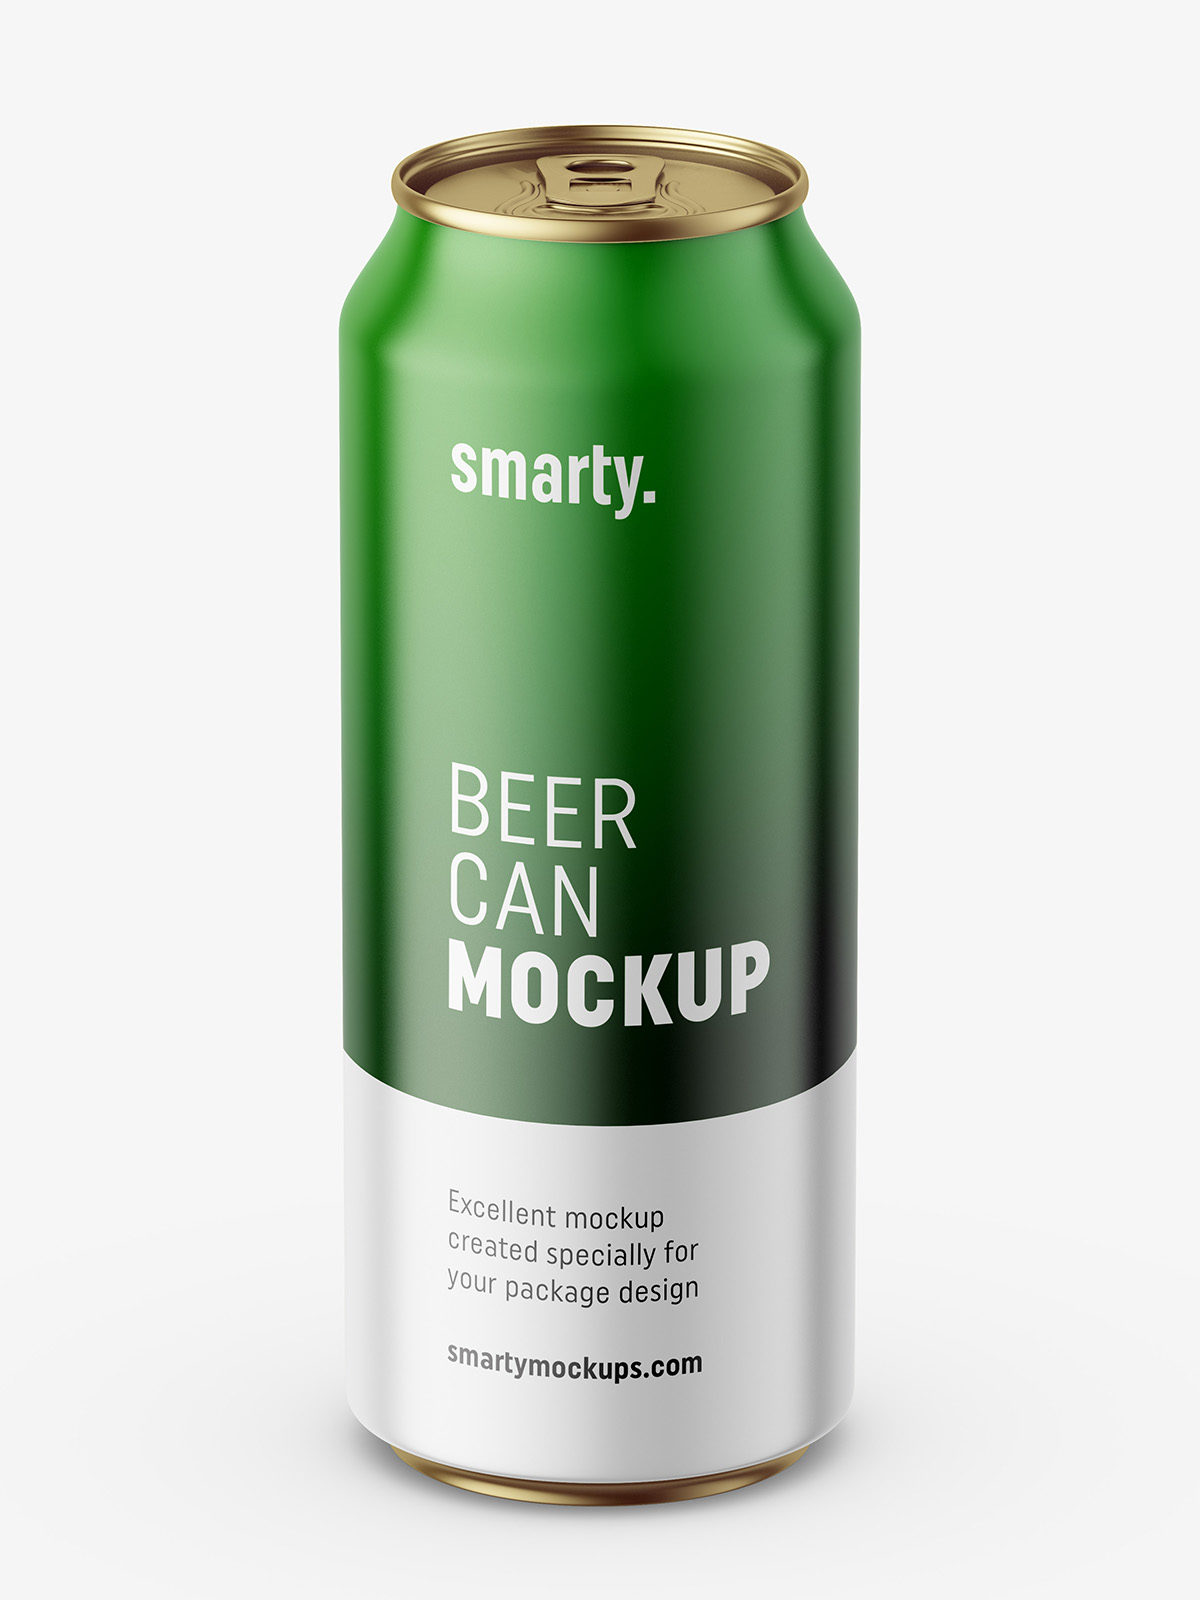beer can: (333, 117, 863, 1508)
